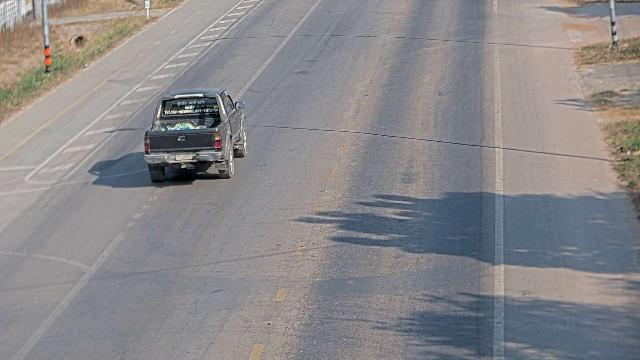pickup-truck: (143, 87, 248, 182)
